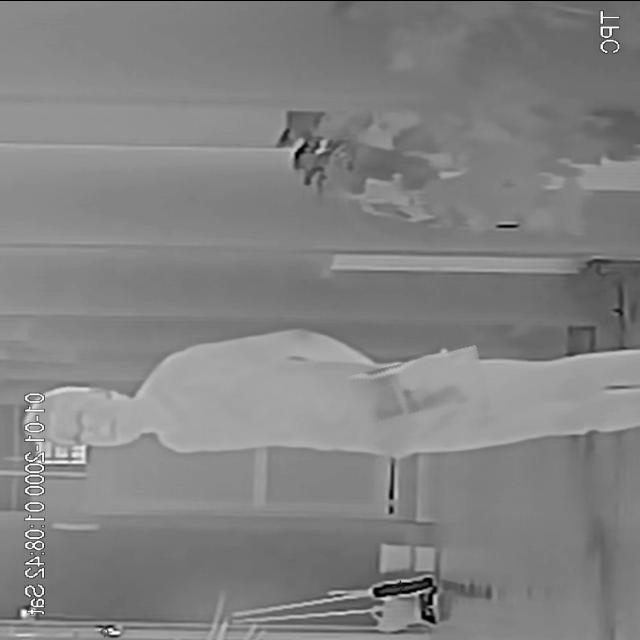Weapon: (352, 352, 489, 436)
